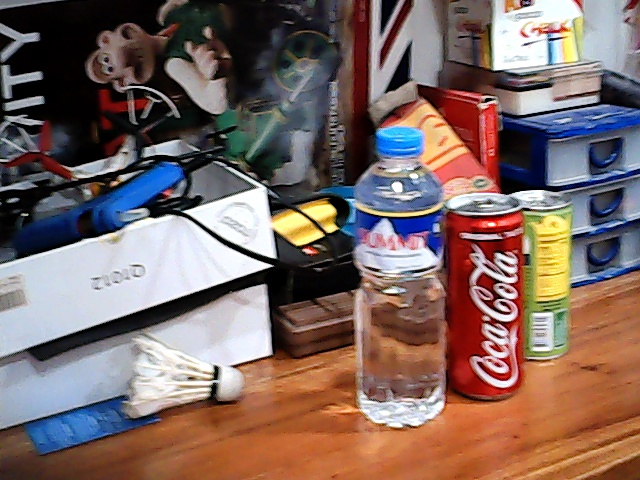Cola: (444, 184, 529, 413)
Pine Juice: (520, 186, 585, 369)
Summit Water: (341, 119, 450, 445)
